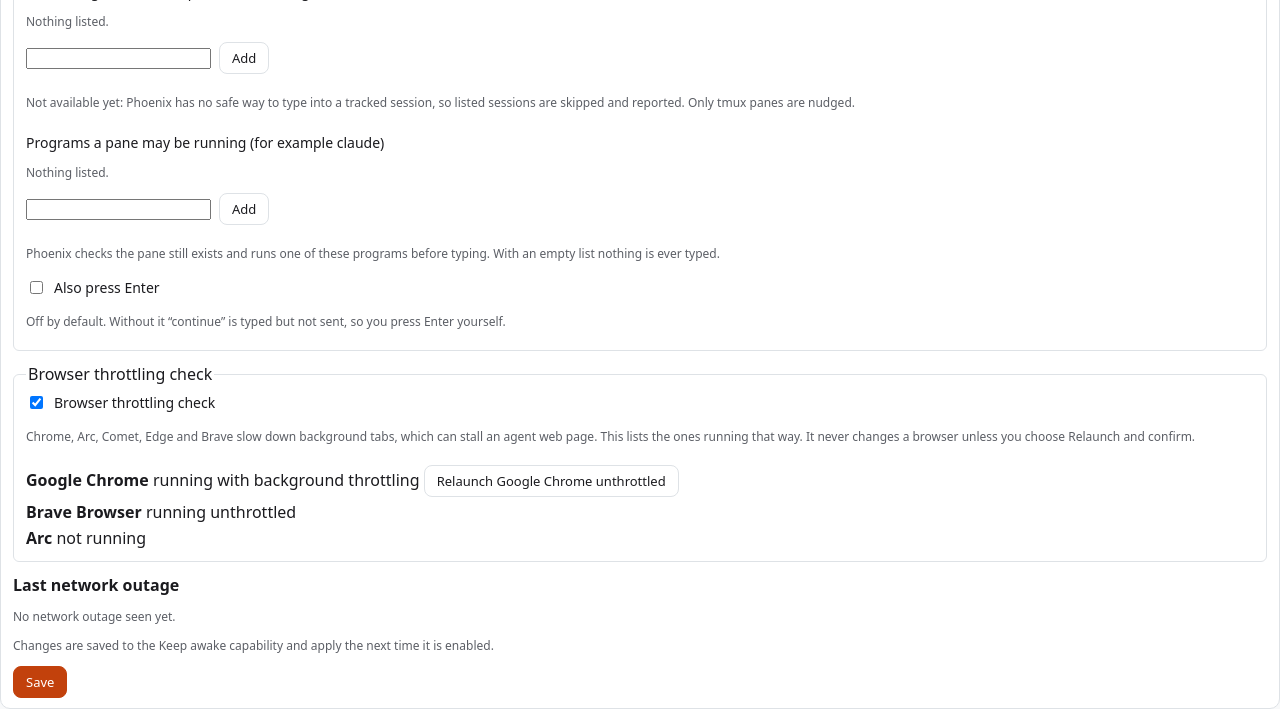
Scenario: Throttle list › lists browsers, offers Relaunch only for the running throttled one, and sends nothing until confirmed
The image size is (1280, 709).
(page scrolled)
Expected: the text "Google Chrome" is shown, [26,469,149,491]
Click the button "Relaunch Google Chrome unthrottled" at (551, 481), box [424,465,679,497]
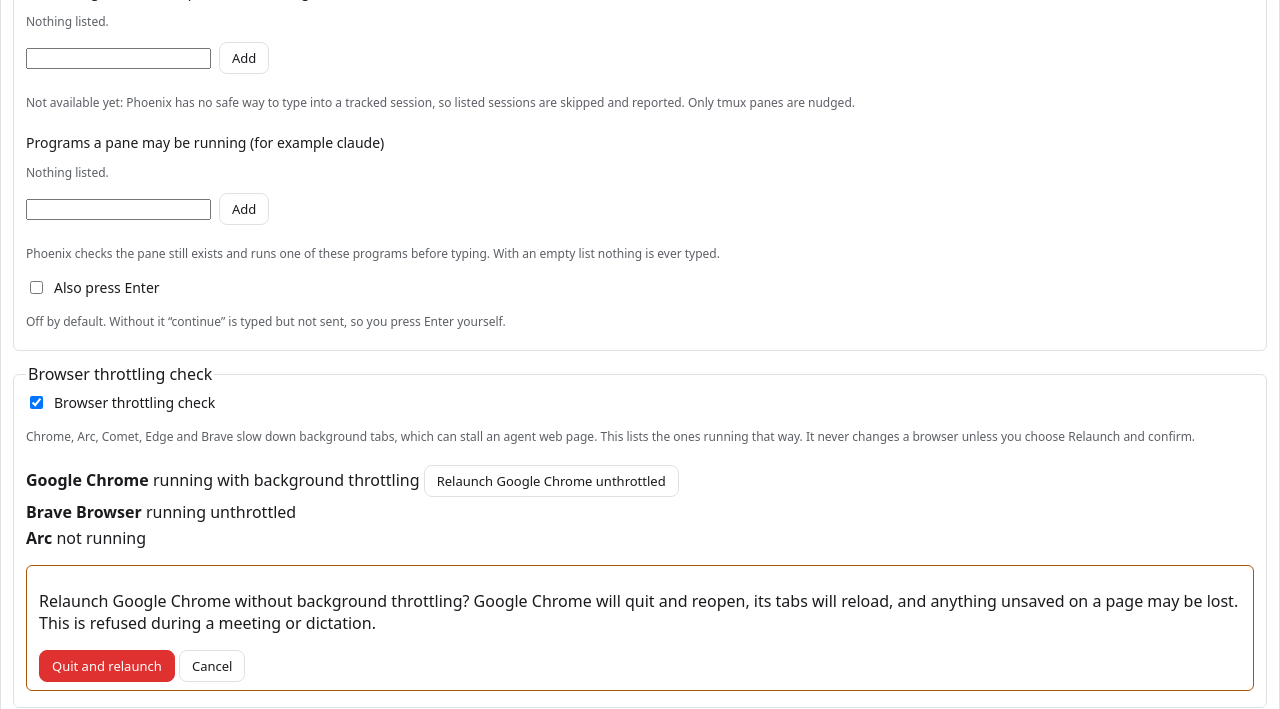
Expected: the dialog shows "tabs will reload", [39,590,1238,634]
Expected: the dialog shows "refused during a meeting or dictation", [39,590,1238,634]
Click the button "Cancel" at (212, 666), box [179,650,245,682]
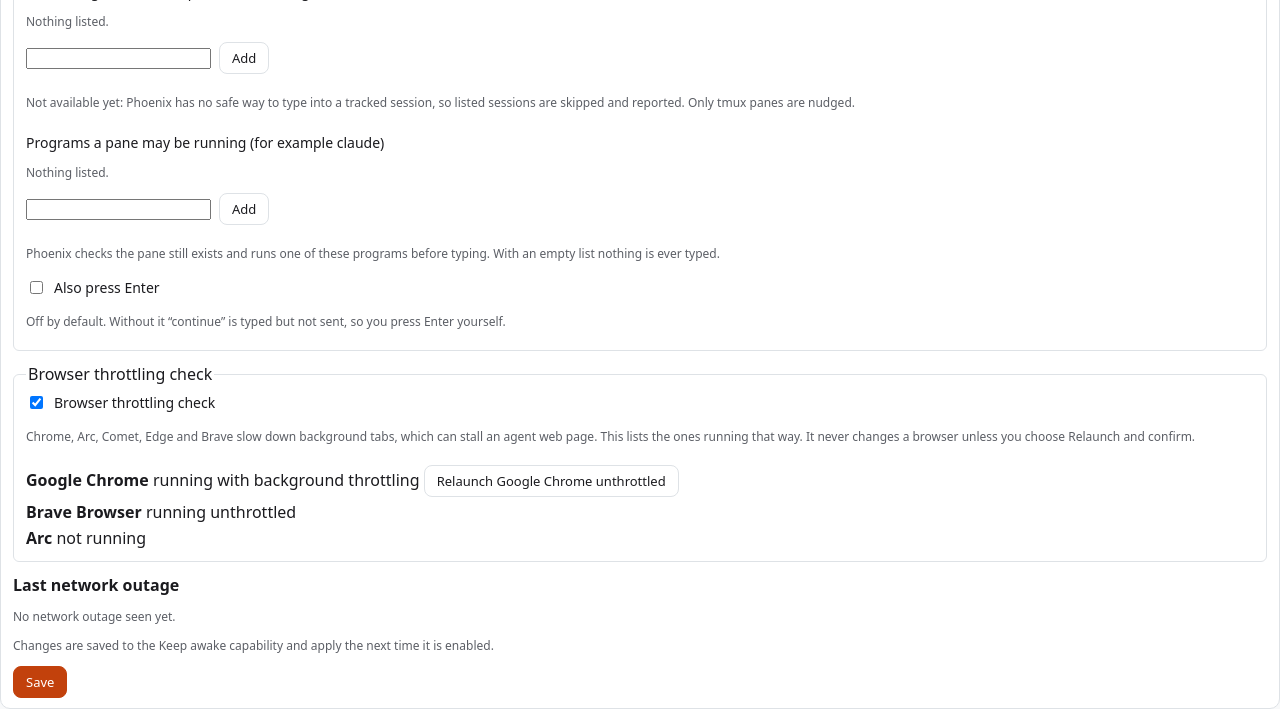
Expected: the dialog is gone
